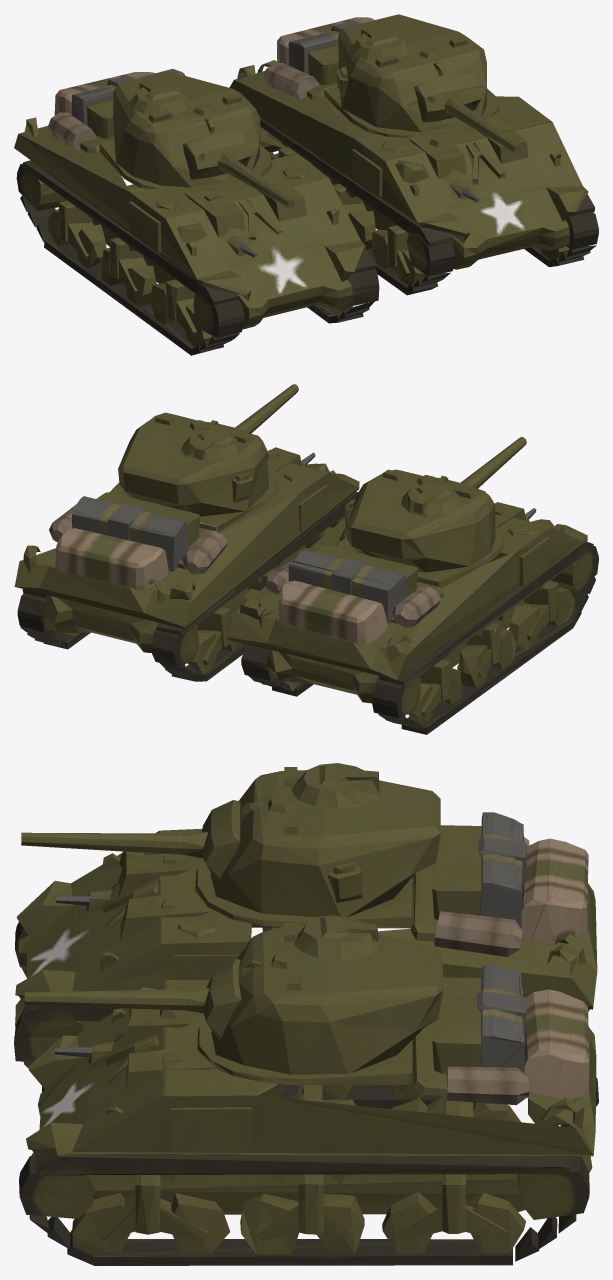
The model's file is bulge_us_armor.glb.
3 renders of one model, top to bottom at view 1: azimuth 30°, elevation 25°; view 2: azimuth 150°, elevation 25°; view 3: azimuth 270°, elevation 25°, orthographic. The views are drawn at different scales.
Visible parts, largest first — view 1: figura; view 2: figura; view 3: figura.
Boxes of the visible parts, x1,y1,x2,y2 form: figura: (14, 14, 598, 355); figura: (14, 384, 598, 734); figura: (14, 763, 598, 1265).
Size of the model in its own units: 0.7335 by 0.3348 by 0.665.
Materials: 1 (1 with a texture image).
